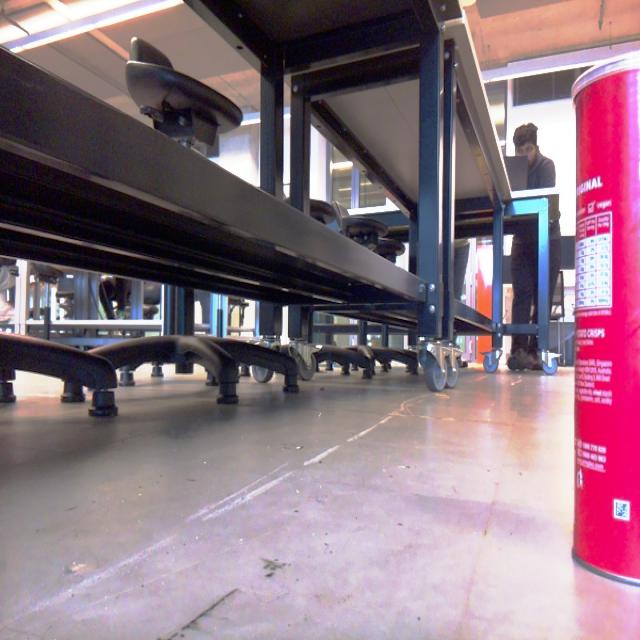redpringles: (558, 50, 640, 599)
